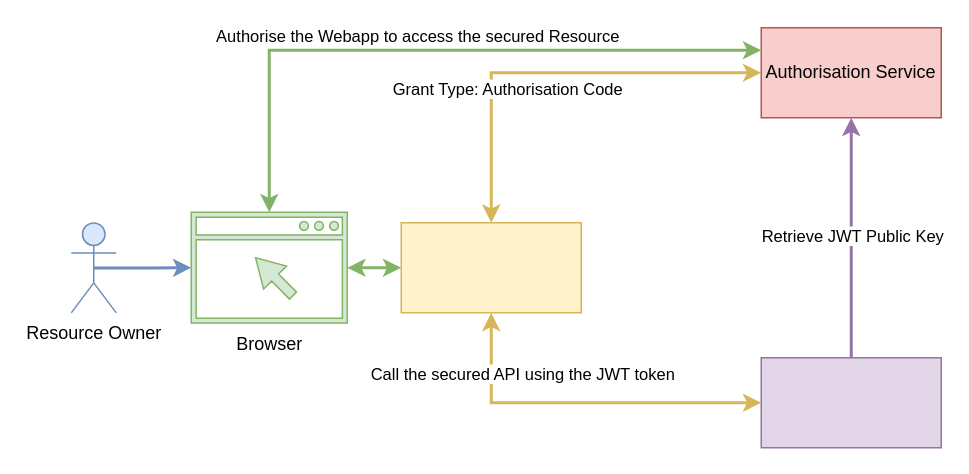
The diagram is 969 pixels wide and 474 high, and some of its shapes have lost their labels. The shapes that lost their labels are listed below. From the top down, each one's centre as x and y in pixels, then its label:
At (x=490, y=267): "Webapp Client Service".
At (x=850, y=402): "Resource Service".
